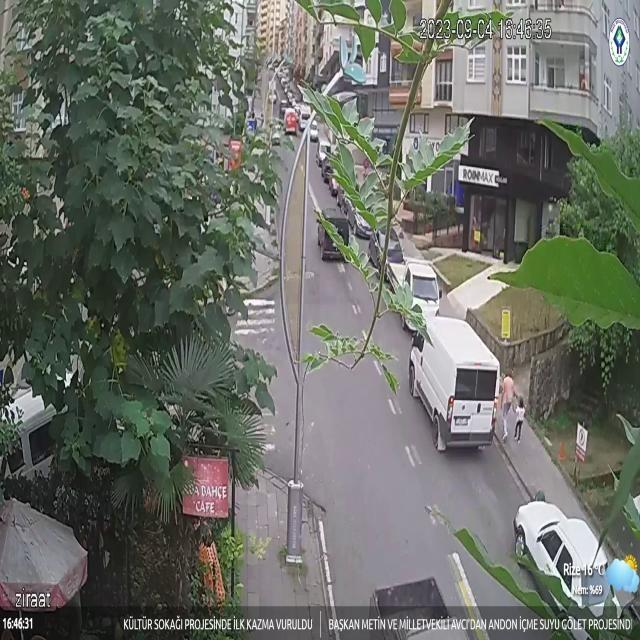Car: (498, 498, 631, 624), (382, 258, 447, 324), (316, 201, 358, 264), (364, 224, 405, 275)
Van: (397, 315, 505, 460)
